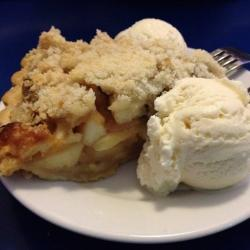apple_pie: (8, 36, 170, 190)
icecream: (139, 78, 250, 201)
